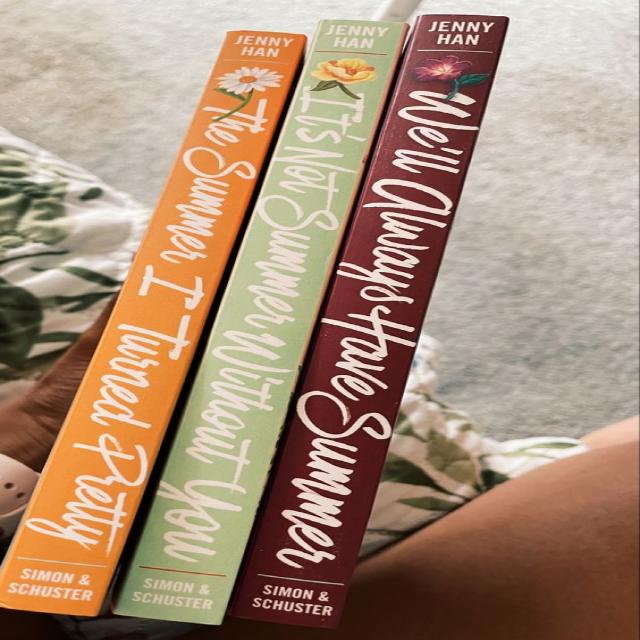book: (0, 31, 305, 615), (121, 21, 406, 624), (228, 15, 507, 627)
